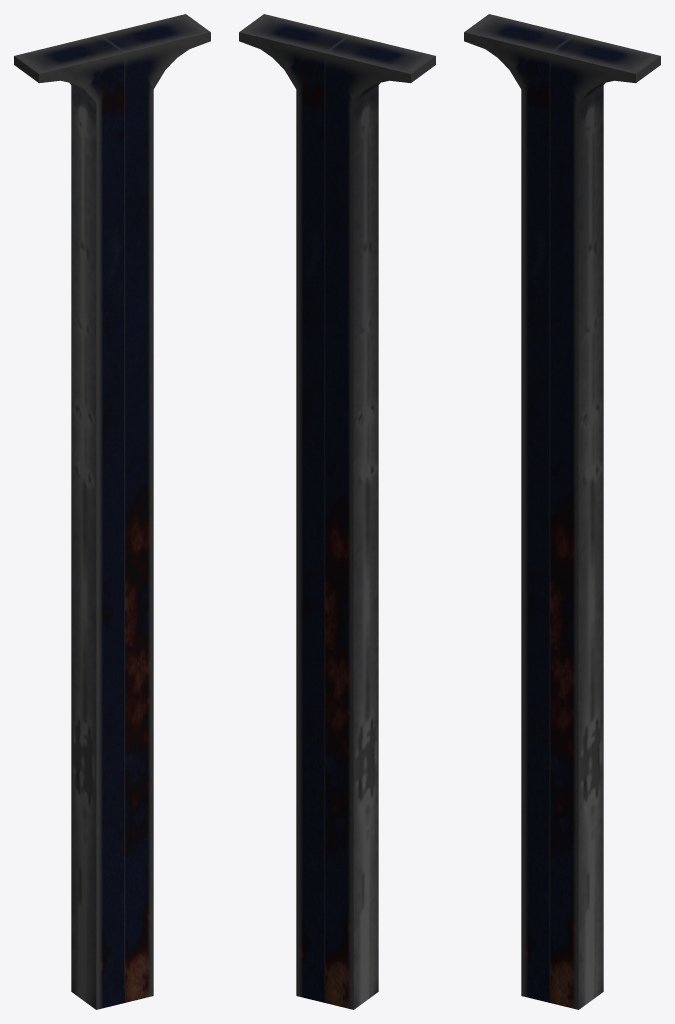
Rendered from StainedGlassWallPillar_low.fbx.
The picture shows the model from 3 angles, left to right: view 1: azimuth 30°, elevation 25°; view 2: azimuth 150°, elevation 25°; view 3: azimuth 330°, elevation 25°; orthographic projection.
Parts seen in each view (by area): view 1: StainedGlassWallPillar_low; view 2: StainedGlassWallPillar_low; view 3: StainedGlassWallPillar_low.
Part boxes in pixels (<box>): StainedGlassWallPillar_low: <box>14,14,210,1009</box>; StainedGlassWallPillar_low: <box>239,14,435,1009</box>; StainedGlassWallPillar_low: <box>464,14,660,1009</box>.
Bounding box in the file's own units: 80.47 × 425 × 20.23.
1 material, 1 textured.
